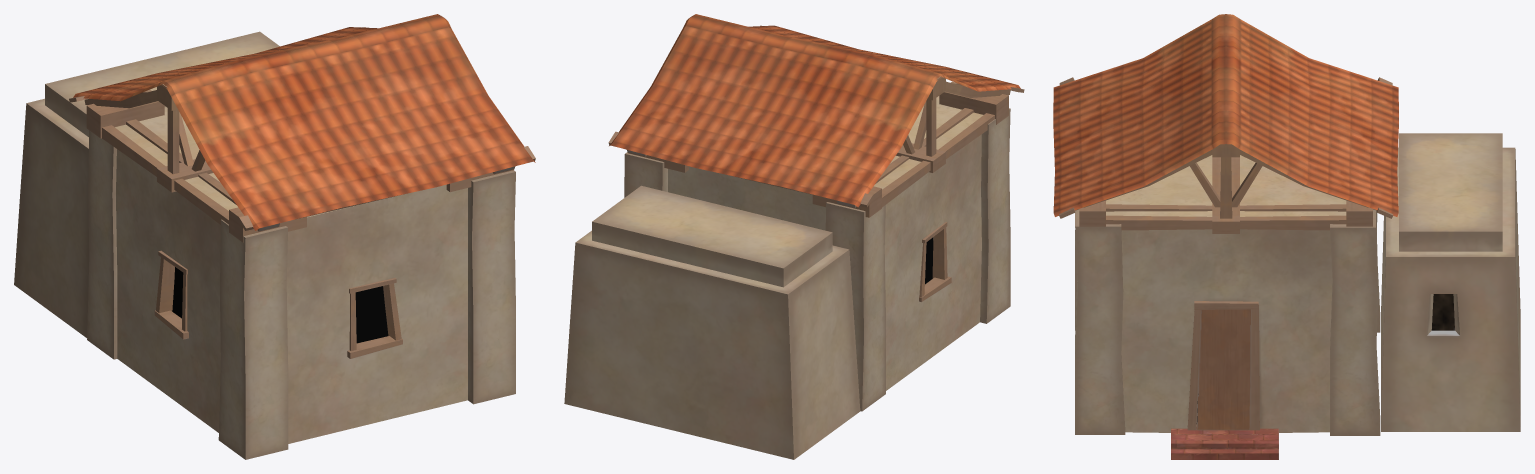
The model's file is SM_house_1.fbx.
3 views of the same model, side by side, from view 1: azimuth 30°, elevation 25°; view 2: azimuth 150°, elevation 25°; view 3: azimuth 270°, elevation 25° (orthographic). The views are drawn at different scales.
Visible parts, largest first — view 1: side17; view 2: side17; view 3: side17.
Part boxes in pixels (x1,y1,x2,y2): side17: (14, 14, 535, 459); side17: (564, 14, 1024, 459); side17: (1053, 14, 1520, 459).
Bounding box in the file's own units: 5.28 × 5.32 × 7.27.
